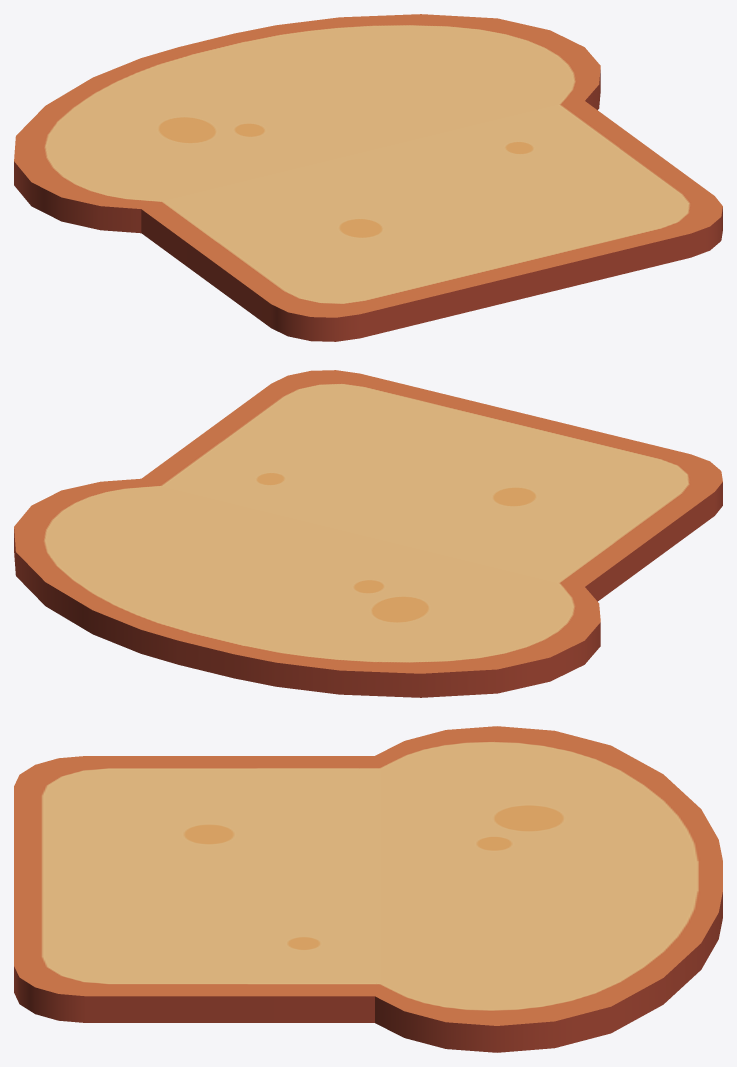
The model's file is Bread_Slice.glb.
3 renders of one model, top to bottom at view 1: azimuth 30°, elevation 25°; view 2: azimuth 150°, elevation 25°; view 3: azimuth 270°, elevation 25°, orthographic. The views are drawn at different scales.
Parts seen in each view (by area): view 1: Bread_Slice; view 2: Bread_Slice; view 3: Bread_Slice.
Part boxes in pixels (bbox=[...]): Bread_Slice: bbox=[14, 14, 722, 341]; Bread_Slice: bbox=[14, 370, 722, 697]; Bread_Slice: bbox=[14, 726, 722, 1052].
Size of the model in its own units: 24.02 by 1 by 24.
1 material, 1 textured.
